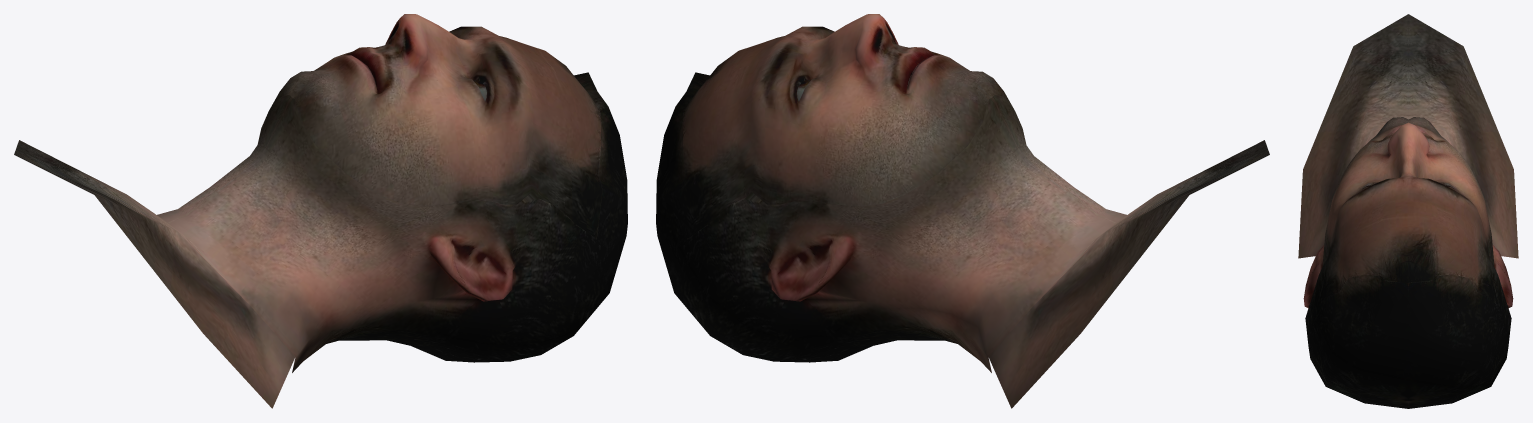
File: head_british_joel.glb
3 renders of one model, left to right at view 1: azimuth 30°, elevation 25°; view 2: azimuth 150°, elevation 25°; view 3: azimuth 270°, elevation 25°, orthographic. The views are drawn at different scales.
Size of the model in its own units: 17.12 by 9.48 by 7.51.
1 material, 1 textured.
